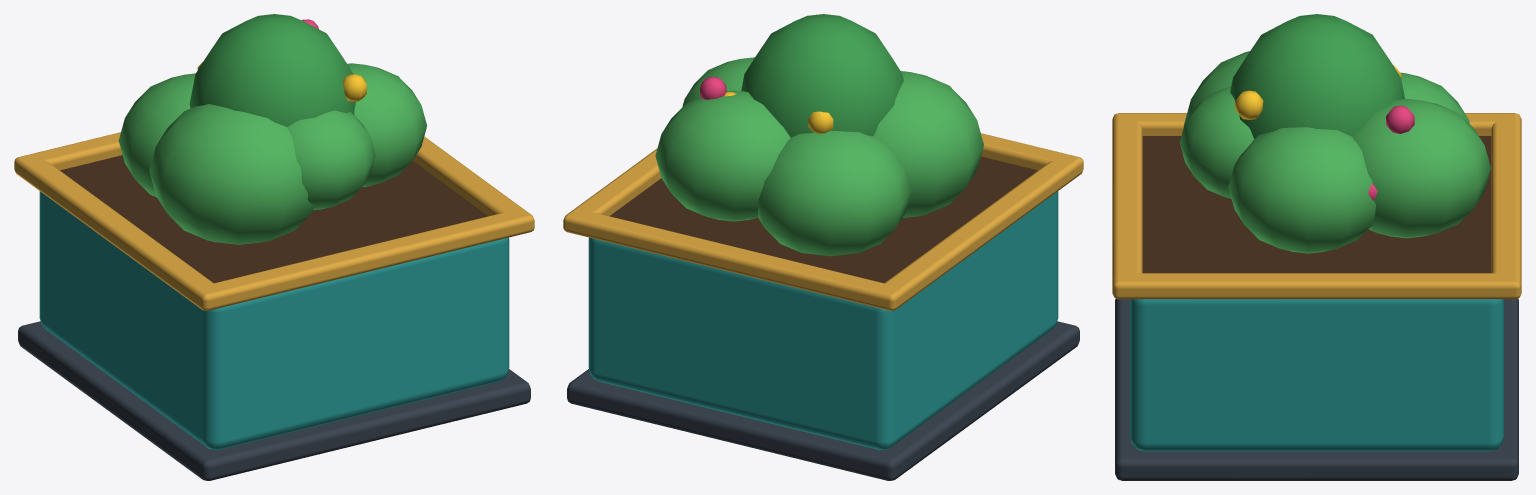
File: planter.glb
The picture shows the model from 3 angles, left to right: view 1: azimuth 30°, elevation 25°; view 2: azimuth 150°, elevation 25°; view 3: azimuth 270°, elevation 25°; orthographic projection. The views are drawn at different scales.
Visible parts, largest first — view 1: planter_body; view 2: planter_body; view 3: planter_body.
Boxes of the visible parts, x1,y1,x2,y2 form: planter_body: (14, 14, 534, 480); planter_body: (563, 14, 1083, 480); planter_body: (1112, 14, 1521, 480).
Bounding box in the file's own units: 1.62 × 1.65 × 1.62.
